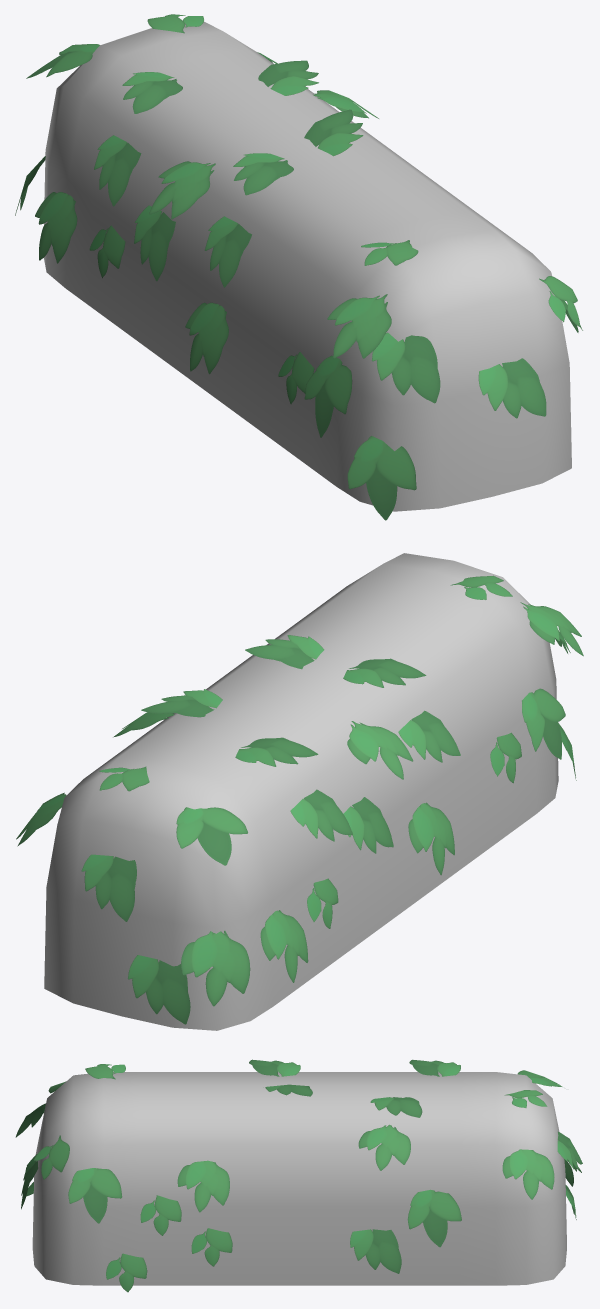
File: Hedge_3m.fbx
The picture shows the model from 3 angles, top to bottom: view 1: azimuth 30°, elevation 25°; view 2: azimuth 150°, elevation 25°; view 3: azimuth 270°, elevation 25°; orthographic projection. The views are drawn at different scales.
Parts seen in each view (by area): view 1: Hedge_3m, Leaf.082; view 2: Hedge_3m, Leaf.082; view 3: Hedge_3m, Leaf.082.
Part boxes in pixels (x1,y1,x2,y2): Hedge_3m: [44, 21, 571, 511]; Leaf.082: [15, 14, 582, 520]; Hedge_3m: [44, 553, 558, 1030]; Leaf.082: [16, 575, 583, 1024]; Hedge_3m: [32, 1072, 566, 1285]; Leaf.082: [15, 1059, 582, 1292].
Bounding box in the file's own units: 127 × 108 × 321.
